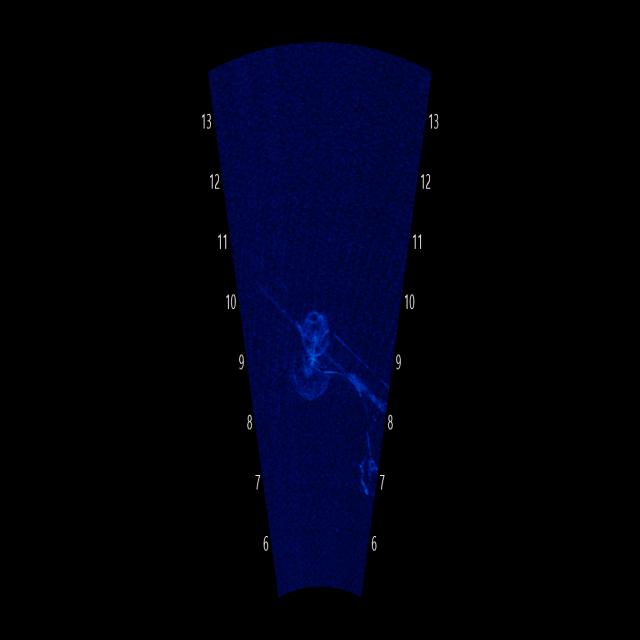circle: (294, 278, 339, 369)
